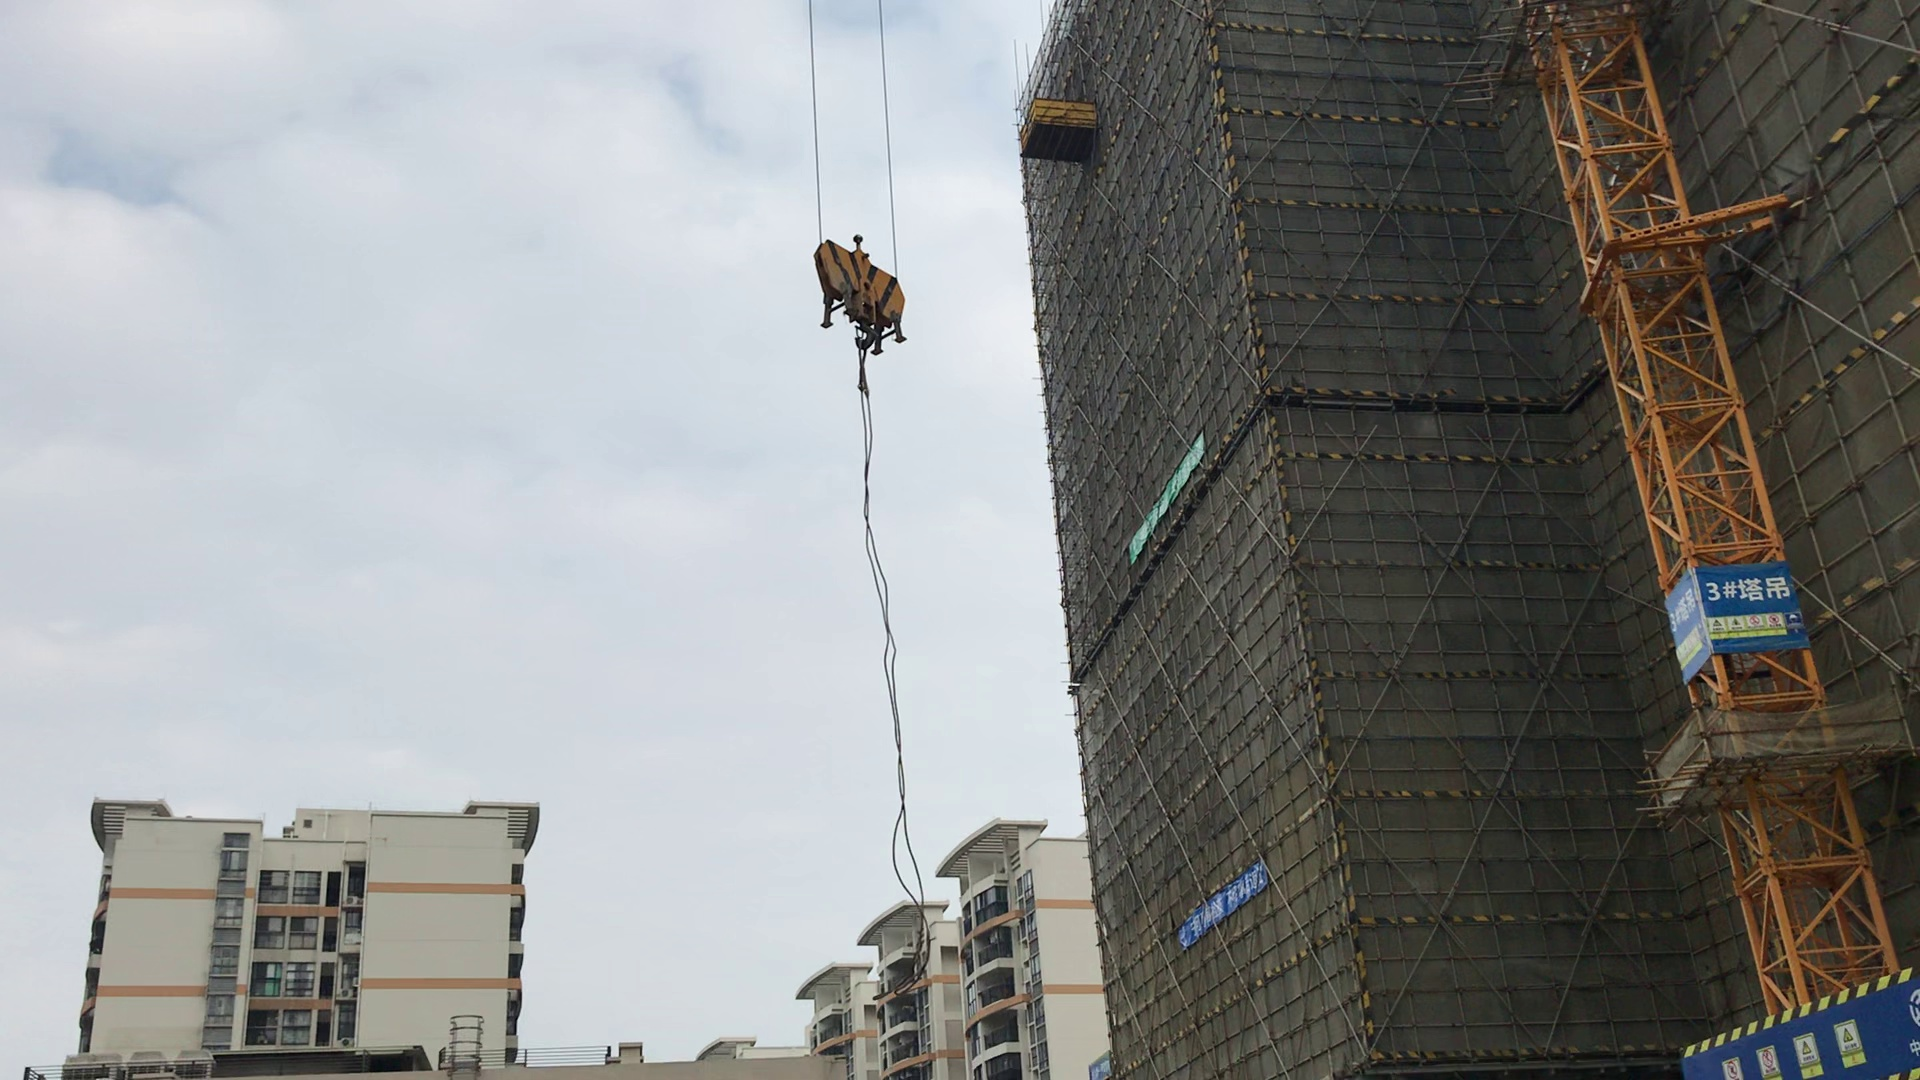hook: (793, 222, 928, 360)
slogan: (1072, 427, 1258, 588), (1691, 961, 1920, 1080), (1151, 877, 1299, 949)
